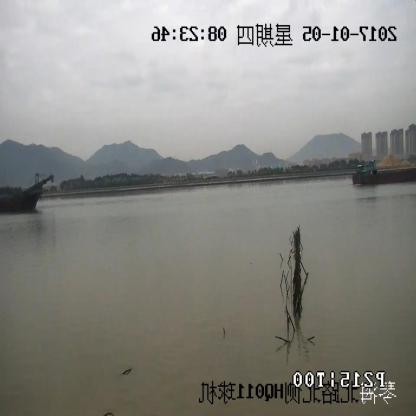Bulk Carrier: (1, 175, 53, 215), (352, 161, 416, 185)
